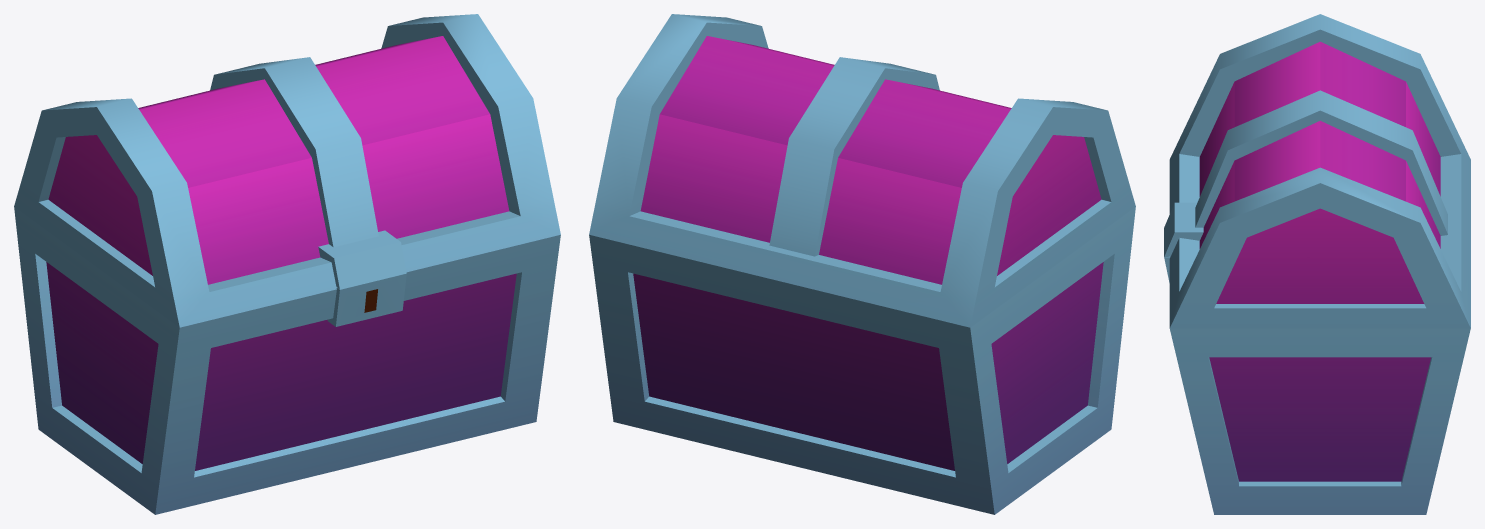
Rendered from Chest 01.fbx.
3 views of the same model, side by side, from view 1: azimuth 30°, elevation 25°; view 2: azimuth 150°, elevation 25°; view 3: azimuth 270°, elevation 25° (orthographic). The views are drawn at different scales.
Visible parts, largest first — view 1: Chest 01 Cover.001, Chest 01.001; view 2: Chest 01 Cover.001, Chest 01.001; view 3: Chest 01 Cover.001, Chest 01.001.
Part boxes in pixels (left/top/right/bottom): Chest 01 Cover.001: left=14, top=14, right=560, bottom=327; Chest 01.001: left=14, top=206, right=560, bottom=514; Chest 01 Cover.001: left=589, top=14, right=1135, bottom=327; Chest 01.001: left=589, top=206, right=1135, bottom=514; Chest 01 Cover.001: left=1164, top=14, right=1470, bottom=328; Chest 01.001: left=1164, top=256, right=1470, bottom=514.
Size of the model in its own units: 106 by 97.2 by 81.41.
